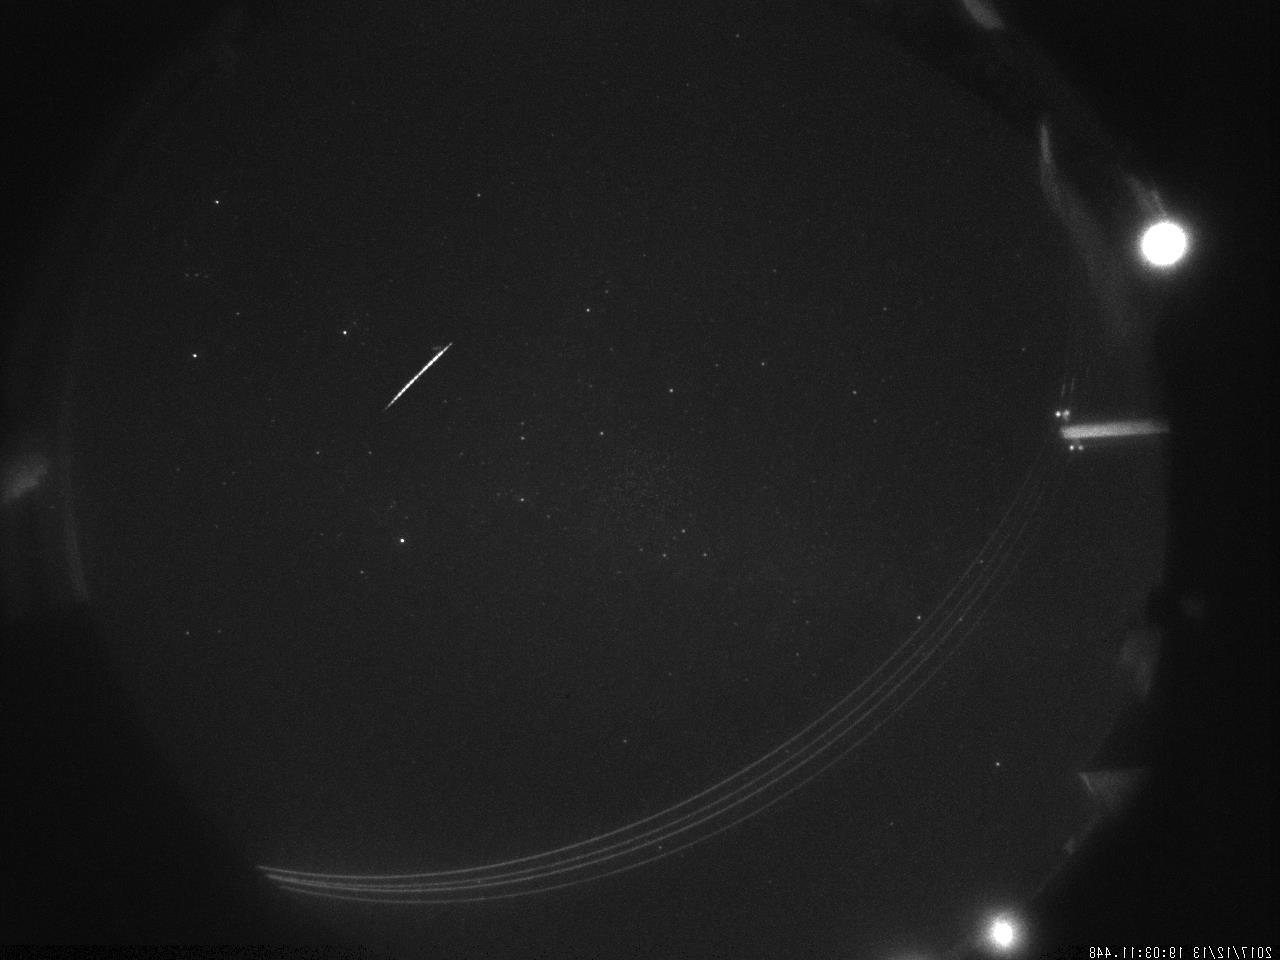meteor: (373, 327, 465, 419)
